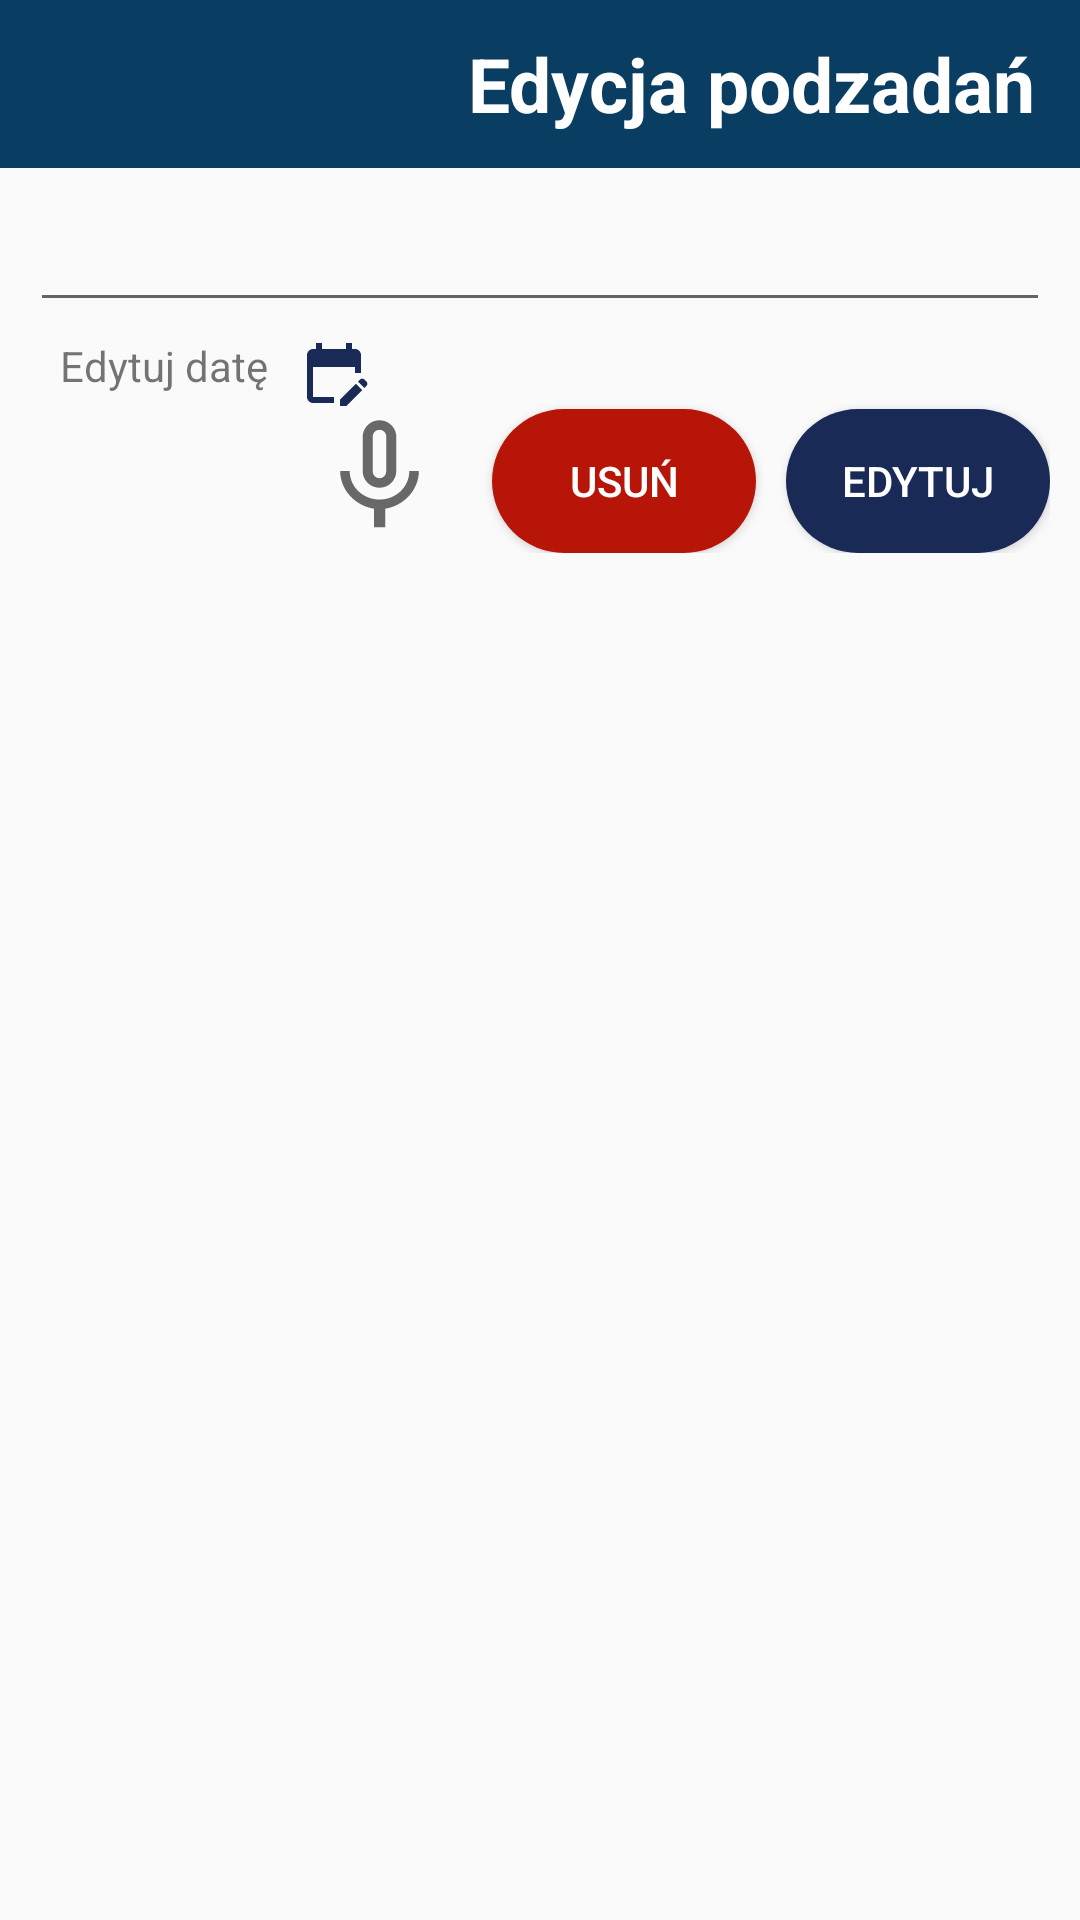

Screen size 1080×1920. Icon name, then its center in pixels as point (x, y):
mic none: point (379, 474)
